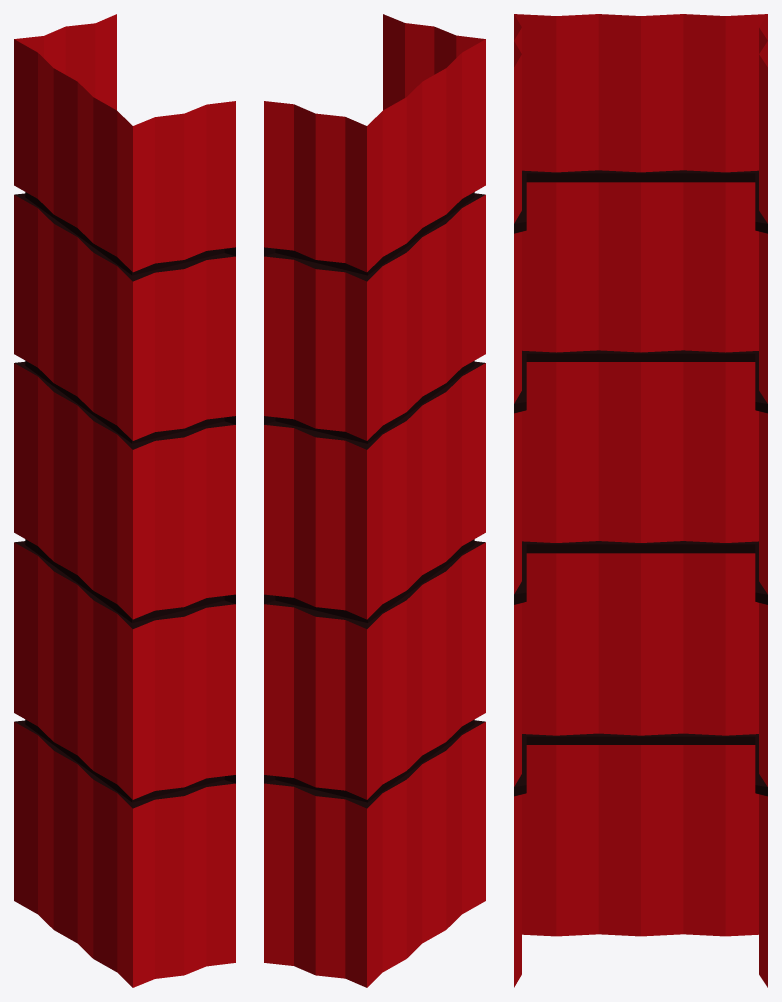
The model's file is Statue_Room_Column.fbx.
3 views of the same model, side by side, from view 1: azimuth 30°, elevation 25°; view 2: azimuth 150°, elevation 25°; view 3: azimuth 270°, elevation 25° (orthographic). The views are drawn at different scales.
Visible parts, largest first — view 1: Statue_Room_Column; view 2: Statue_Room_Column; view 3: Statue_Room_Column.
Boxes of the visible parts, left/top/right/bottom form: Statue_Room_Column: left=14, top=14, right=235, bottom=987; Statue_Room_Column: left=264, top=14, right=485, bottom=987; Statue_Room_Column: left=514, top=14, right=767, bottom=987.
Size of the model in its own units: 100 by 800 by 200.
